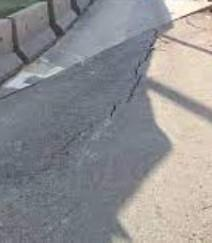crack: (36, 114, 109, 168), (120, 28, 166, 107)
